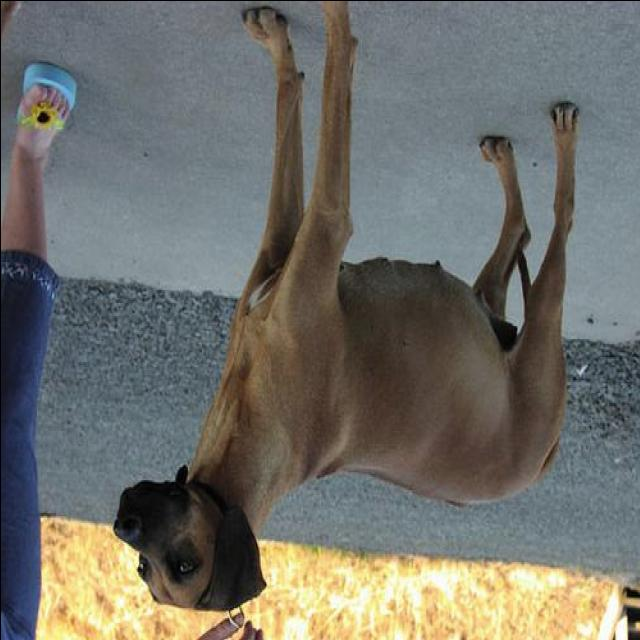rhodesian_ridgeback: (111, 3, 578, 610)
